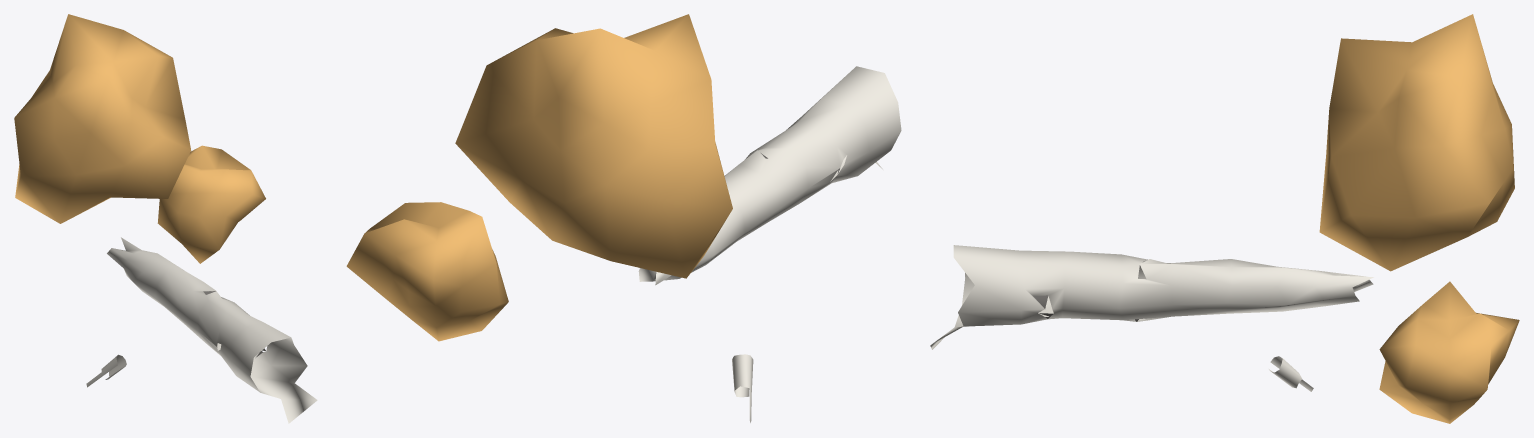
Rendered from birch.glb.
3 views of the same model, side by side, from view 1: azimuth 30°, elevation 25°; view 2: azimuth 150°, elevation 25°; view 3: azimuth 270°, elevation 25° (orthographic). The views are drawn at different scales.
Visible parts, largest first — view 1: m2, m0; view 2: m2, m0; view 3: m2, m0.
Boxes of the visible parts, <box> form: m2: <box>14,14,265,263</box>; m0: <box>86,237,317,423</box>; m2: <box>346,14,732,341</box>; m0: <box>638,66,901,422</box>; m2: <box>1319,14,1519,423</box>; m0: <box>930,245,1373,391</box>.
Size of the model in its own units: 2.38 by 2.94 by 3.87.
